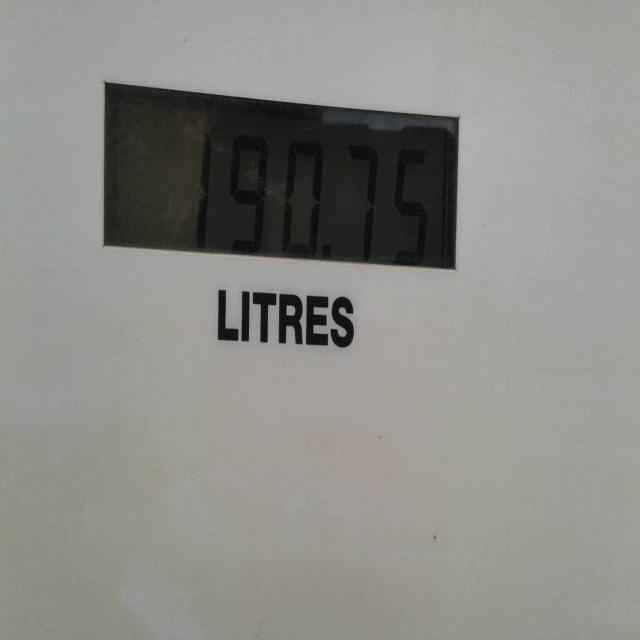.: (321, 242, 330, 254)
0: (278, 135, 320, 252)
5: (395, 145, 429, 272)
7: (346, 144, 381, 264)
8: (189, 127, 215, 243)
9: (226, 134, 266, 244)
